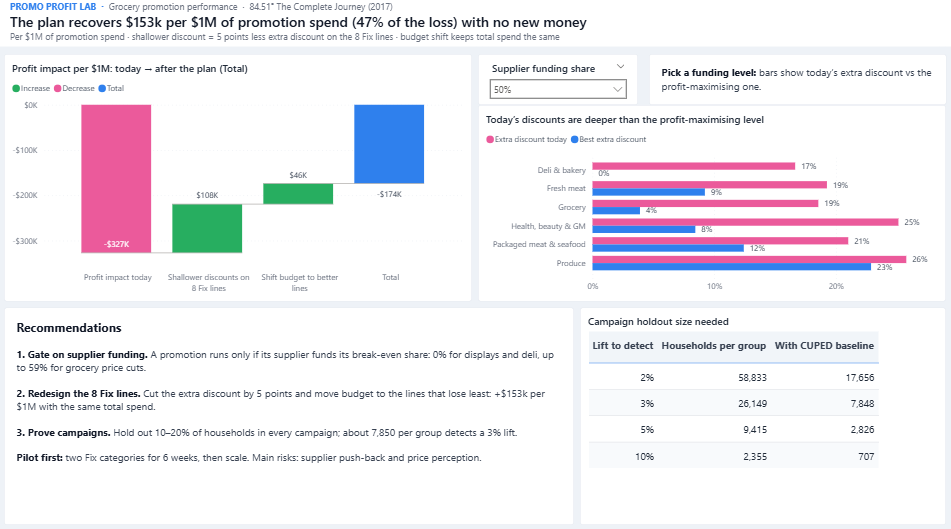

Layout of this report page (visuals, bound fields, positions):
{"tool":"powerbi","page":{"name":"The plan","canvas":[1280,720],"ordinal":4},"visuals":[{"type":"textbox","box":[0,0,1280,70],"z":1000},{"type":"waterfallChart","title":"Profit impact per $1M: today → after the plan (Total)","fields":{"Category":["plan_bridge.step"],"Y":["Sum(plan_bridge.per_million)"]},"box":[12,80,624,330],"z":2000},{"type":"slicer","fields":{"Values":["optimal_depth.supplier_share"]},"box":[644,80,220,60],"z":3000},{"type":"textbox","box":[872,80,396,60],"z":4000},{"type":"clusteredBarChart","title":"Today’s discounts are deeper than the profit-maximising level","fields":{"Category":["optimal_depth.group"],"Y":["_Measures.Extra Discount Today","_Measures.Best Extra Discount"]},"box":[644,148,624,262],"z":5000},{"type":"textbox","box":[12,418,760,290],"z":6000},{"type":"tableEx","title":"Campaign holdout size needed","fields":{"Values":["pilot_design.detectable_lift","pilot_design.households_per_arm","pilot_design.households_per_arm_cuped"]},"box":[780,418,488,290],"z":7000}]}

Visuals, with their boxes in screenshot pixels (x1, y1, x2, y2), scaled from the page's 1280x720 canvas onto the 951x529 screenshot:
textbox: left=0, top=0, right=950, bottom=51
"Profit impact per $1M: today → after the plan (Total)" waterfallChart: left=9, top=59, right=473, bottom=301
slicer - optimal_depth.supplier_share: left=478, top=59, right=642, bottom=103
textbox: left=648, top=59, right=942, bottom=103
"Today’s discounts are deeper than the profit-maximising level" clusteredBarChart: left=478, top=109, right=942, bottom=301
textbox: left=9, top=307, right=574, bottom=520
"Campaign holdout size needed" tableEx: left=580, top=307, right=942, bottom=520
